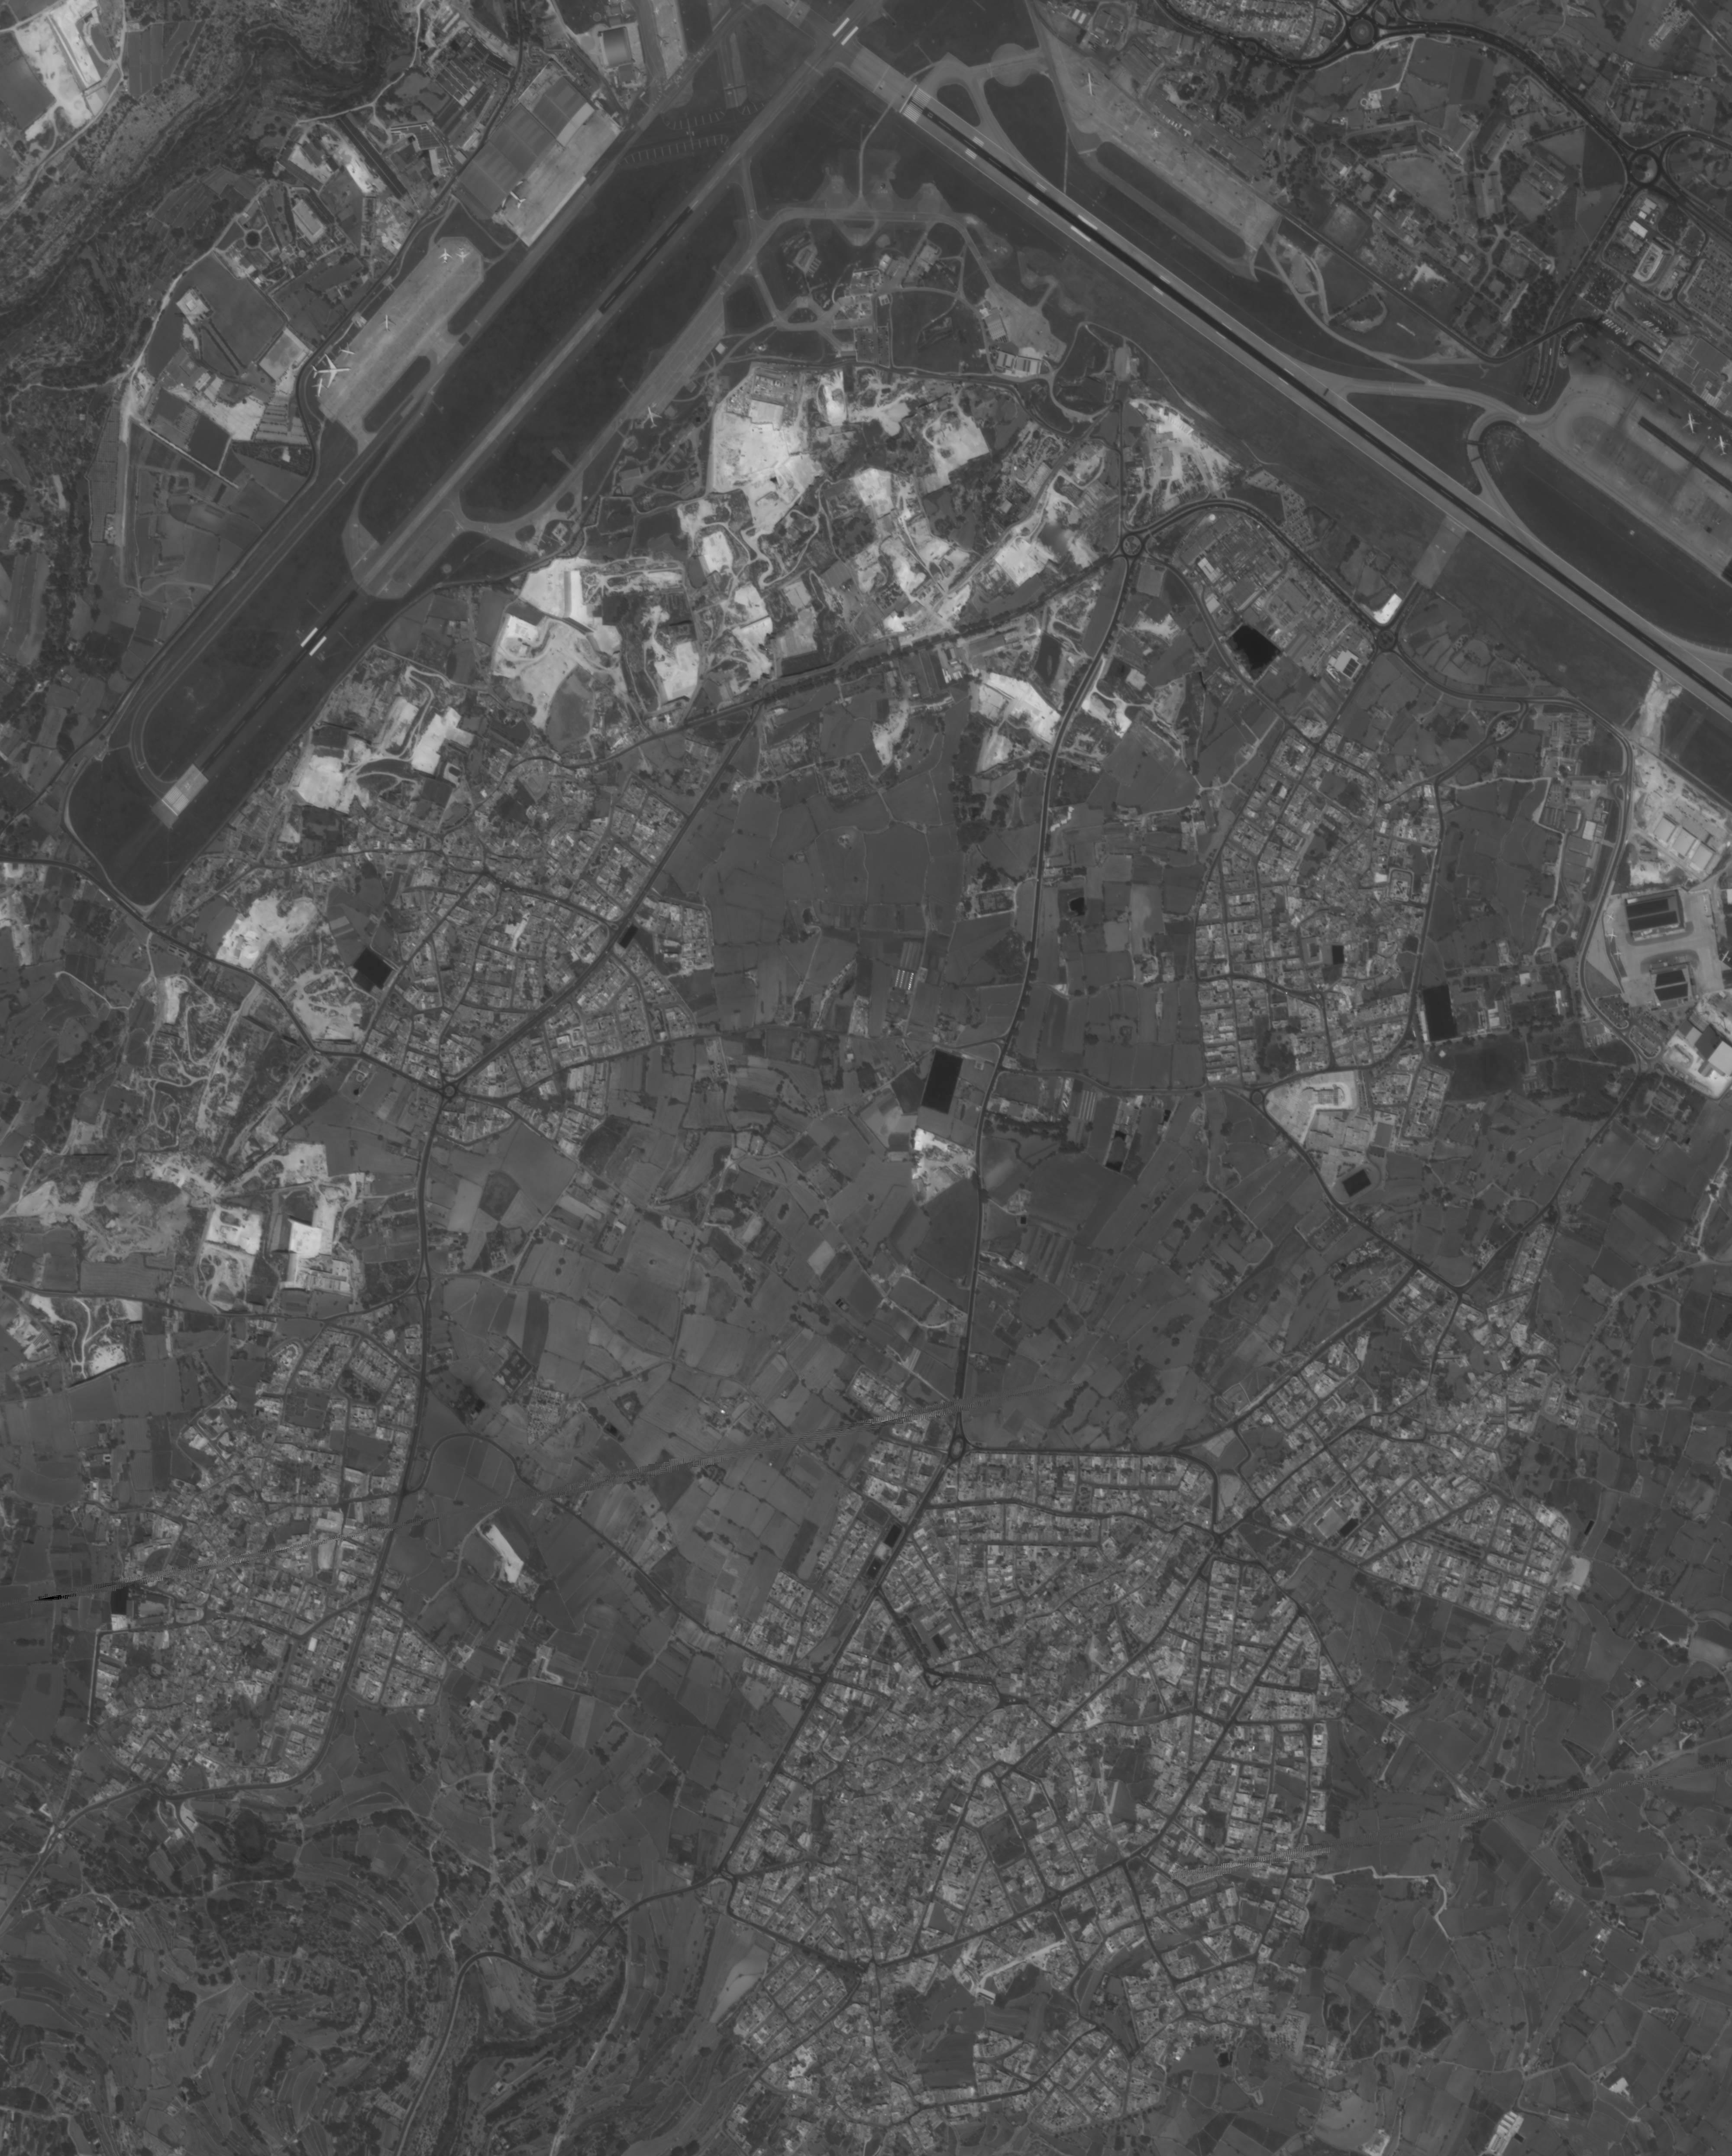ground track field: (1322, 1157, 1389, 1211)
plane: (307, 350, 355, 392), (493, 176, 537, 219), (636, 400, 666, 434), (1076, 68, 1105, 102), (1678, 409, 1704, 438), (649, 27, 677, 54), (335, 340, 360, 366), (308, 374, 332, 401), (1711, 433, 1732, 458), (1173, 145, 1195, 167), (1601, 924, 1622, 947), (378, 313, 397, 334), (1600, 908, 1621, 928), (455, 246, 472, 266), (438, 246, 454, 266), (1611, 945, 1625, 964), (1717, 948, 1732, 965), (1149, 126, 1163, 141), (651, 5, 662, 18), (1702, 903, 1713, 914), (1701, 894, 1710, 904), (1715, 900, 1723, 909)
roundabout: (1627, 150, 1662, 185), (1347, 17, 1377, 48), (945, 1431, 969, 1465), (1120, 533, 1144, 558), (1376, 628, 1397, 652), (1241, 39, 1260, 59), (718, 1867, 738, 1884), (245, 229, 262, 249), (1250, 1090, 1265, 1107), (416, 1277, 432, 1294), (444, 1084, 457, 1098), (1314, 991, 1323, 1001)
soccer ball field: (921, 1049, 965, 1115)
